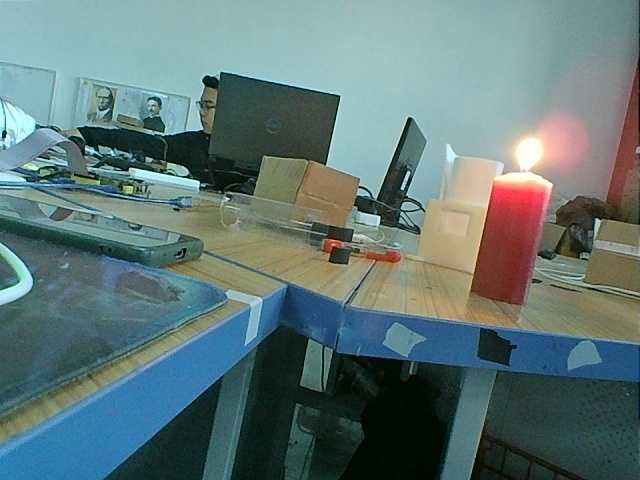candle: (464, 185, 555, 308)
fire: (493, 132, 566, 189)
